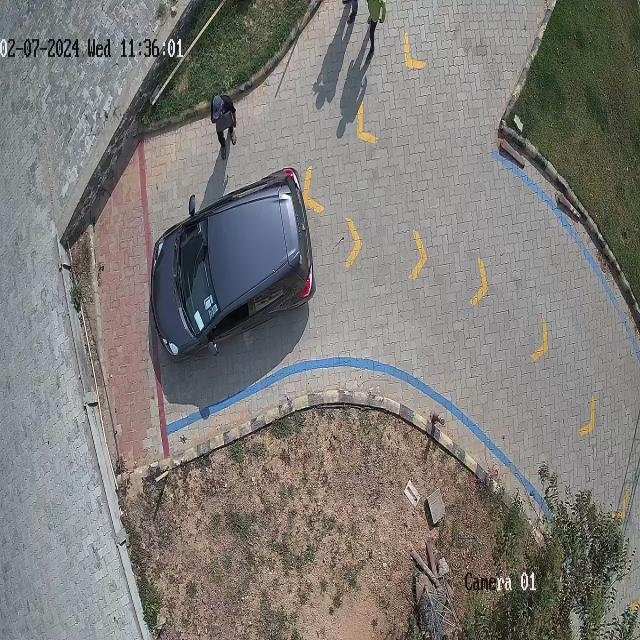car: (151, 169, 316, 360)
